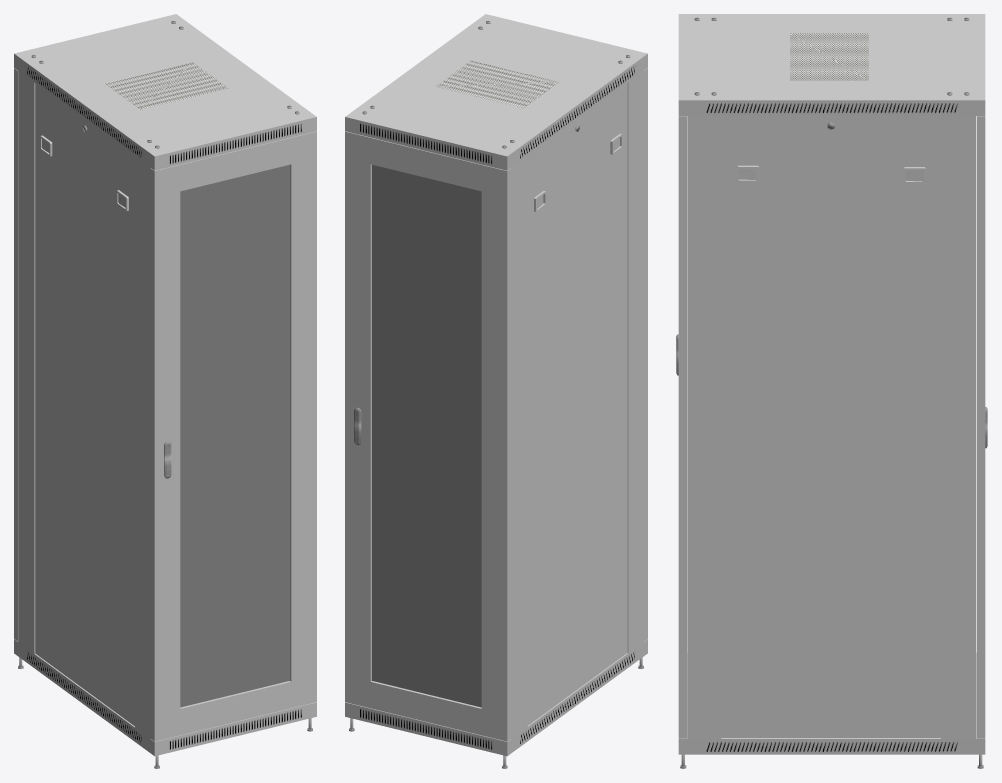
The model's file is RKBG42.fbx.
3 renders of one model, left to right at view 1: azimuth 30°, elevation 25°; view 2: azimuth 150°, elevation 25°; view 3: azimuth 270°, elevation 25°, orthographic. The views are drawn at different scales.
Parts seen in each view (by area): view 1: frontdoor, RKBG42, Box121, backdoor; view 2: backdoor, RKBG42, Box121, frontdoor; view 3: RKBG42, Box121, frontdoor, backdoor.
Boxes of the visible parts, x1,y1,x2,y2 form: frontdoor: (150, 131, 316, 741); RKBG42: (35, 83, 134, 725); Box121: (14, 14, 316, 768); backdoor: (14, 68, 18, 641); backdoor: (345, 131, 511, 741); RKBG42: (527, 83, 627, 725); Box121: (345, 14, 647, 768); frontdoor: (644, 68, 647, 641); RKBG42: (721, 116, 940, 737); Box121: (678, 14, 985, 768); frontdoor: (676, 116, 686, 738); backdoor: (977, 116, 987, 738).
Size of the model in its own units: 610 by 2172 by 913.
6 materials, 5 textured.
